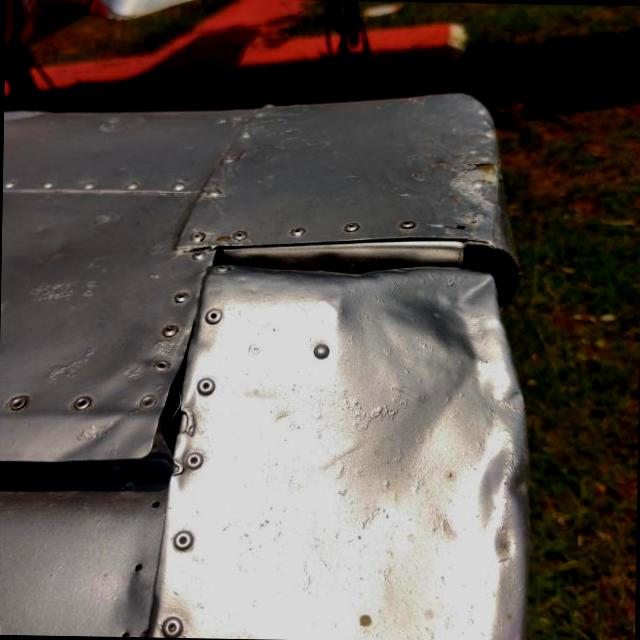dent: (428, 422, 560, 578), (370, 253, 510, 392)
